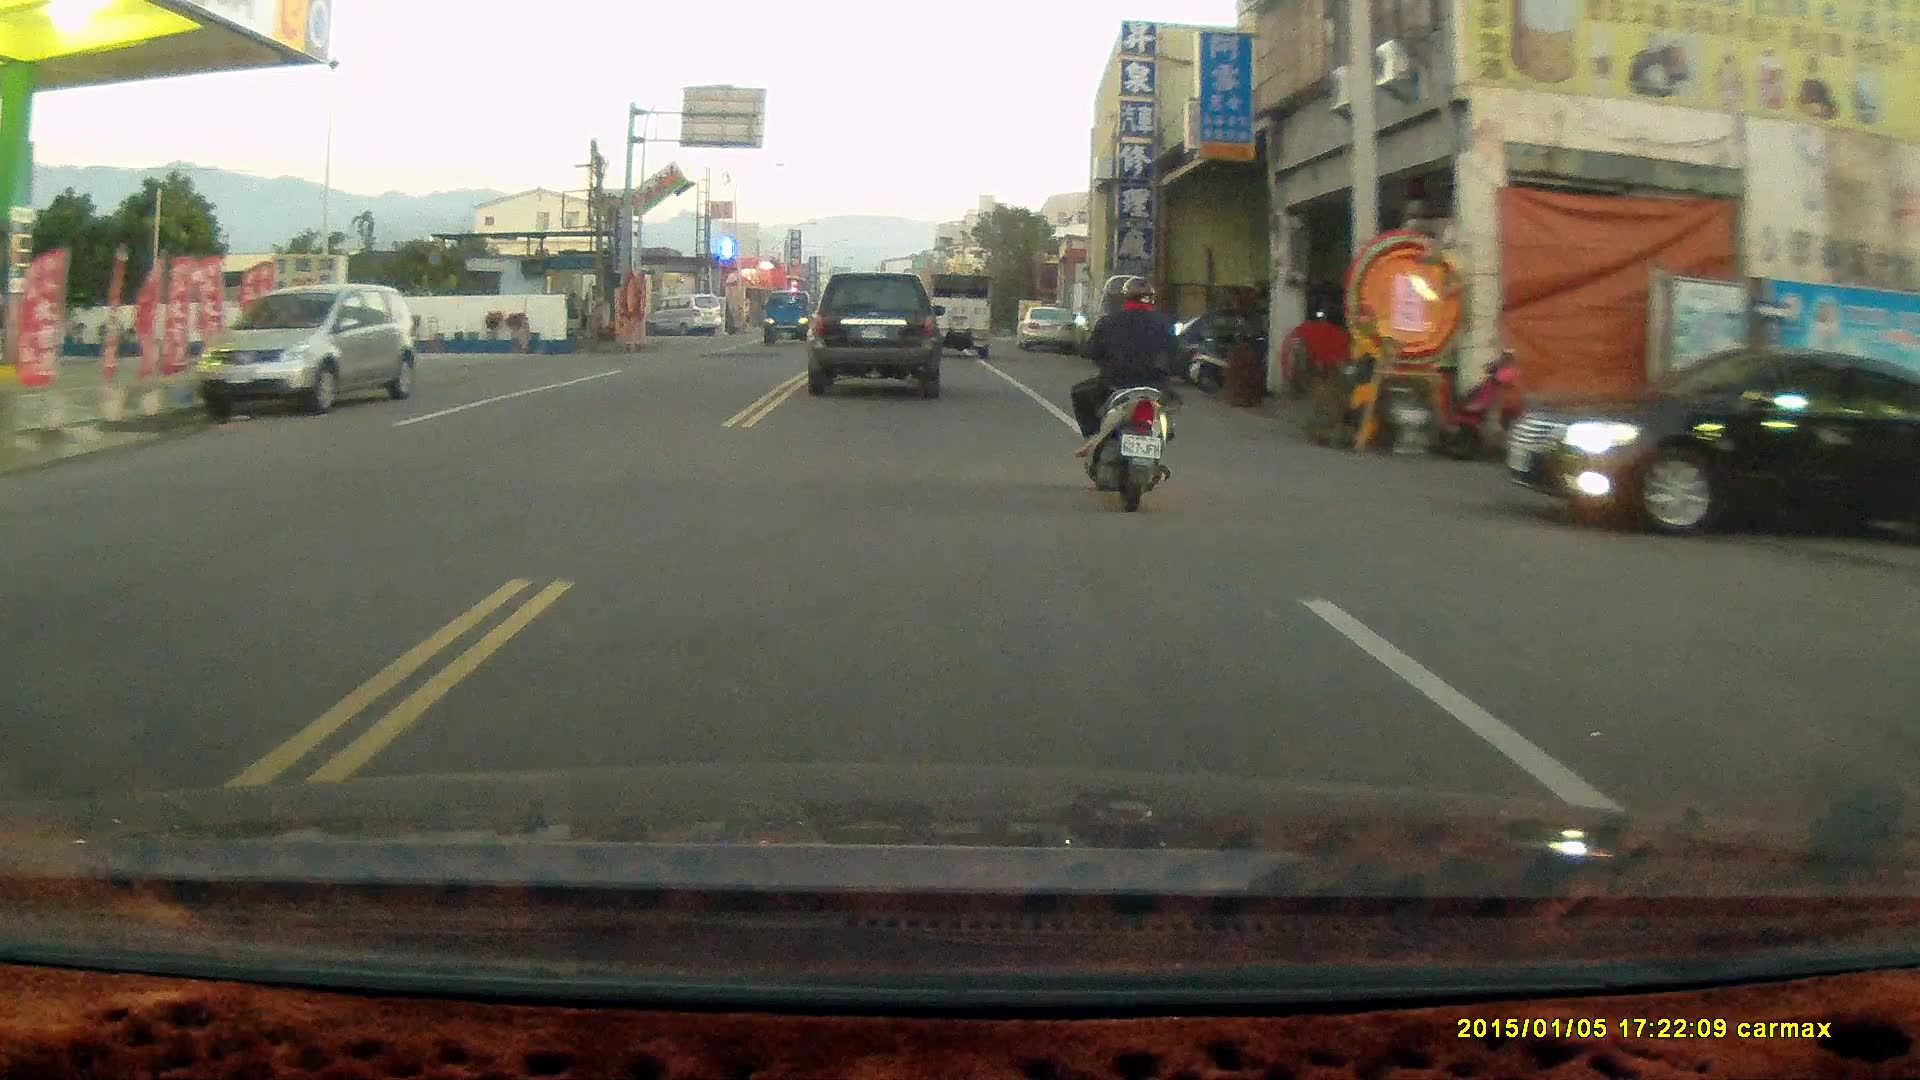rider: (1069, 272, 1181, 512)
vehicle: (1511, 341, 1913, 540), (191, 279, 420, 416), (807, 269, 951, 400), (927, 269, 994, 358), (644, 293, 723, 335), (1015, 306, 1076, 349)
